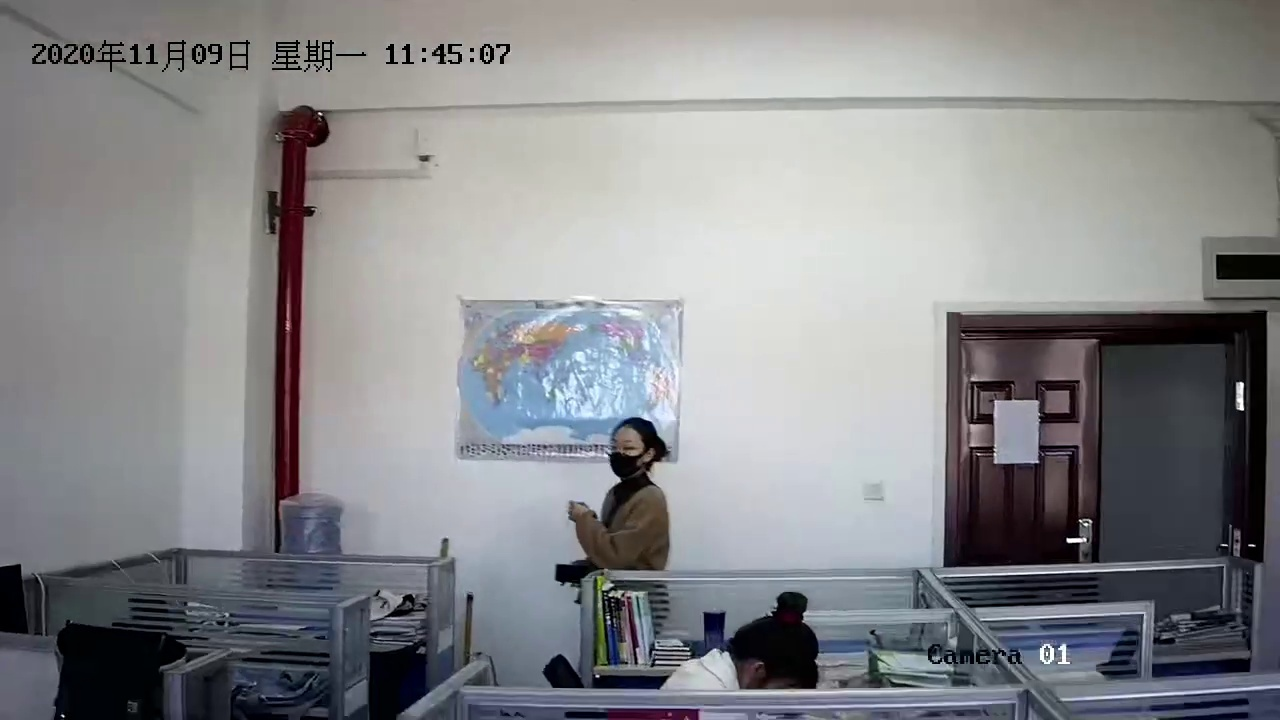mask: (596, 398, 659, 478)
